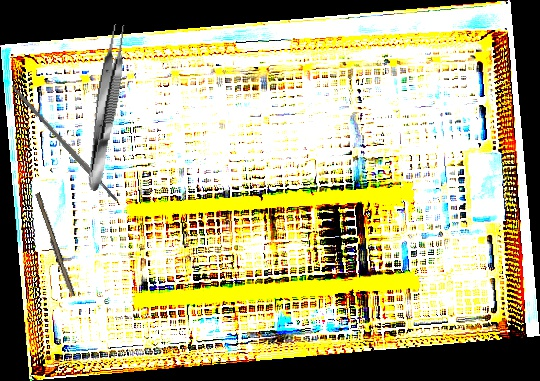Scalpel Handle: (9, 83, 119, 204), (32, 192, 77, 298)
Tissue Forceps: (81, 22, 131, 193)
